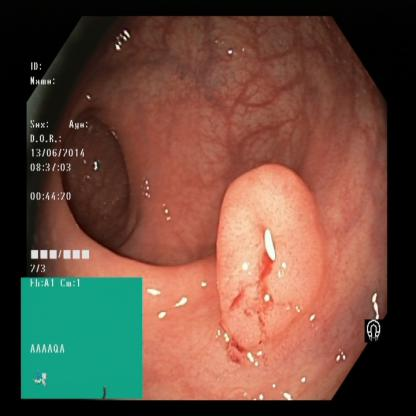Labels: (22, 278, 145, 399), (30, 56, 94, 277), (362, 308, 392, 350)
Polyps: (206, 164, 326, 348)
